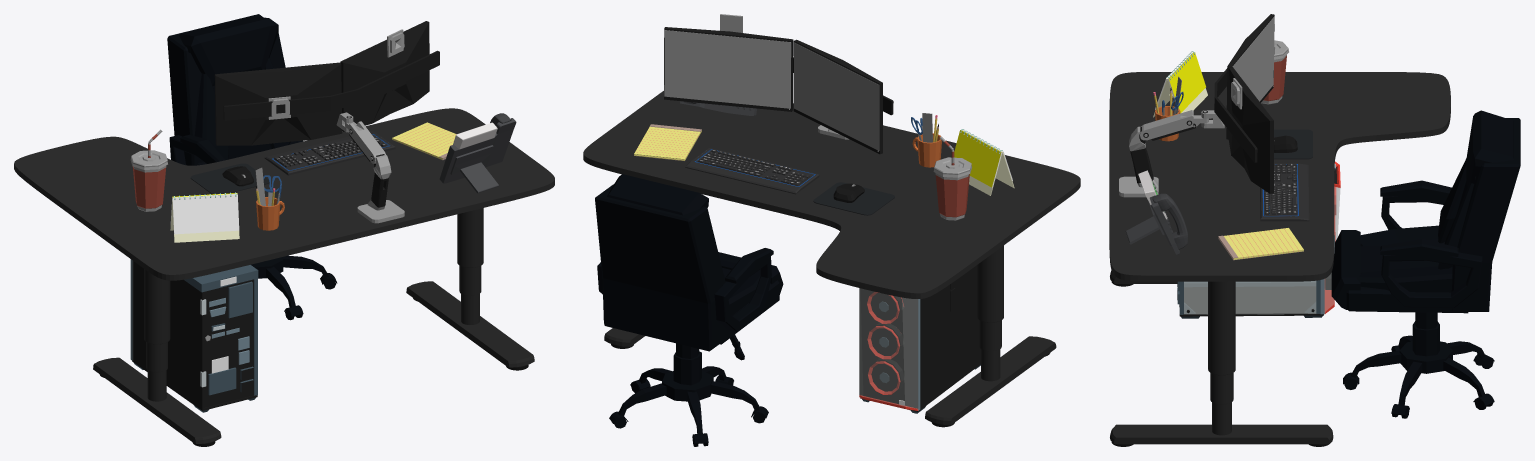
The model's file is Office.glb.
The picture shows the model from 3 angles, left to right: view 1: azimuth 30°, elevation 25°; view 2: azimuth 150°, elevation 25°; view 3: azimuth 270°, elevation 25°; orthographic projection. The views are drawn at different scales.
Visible parts, largest first — view 1: Desk, ExecutiveChair1, Dual Monitors on sit-stand arm|group1691283673|Dupli|23, group1851977708, Dual Monitors on sit-stand arm|group860618825|Dupli|22, group1179872976, Office Phone.001, Dual Monitors on sit-stand arm|group2128326706|Dupli|16, Calendar-8GqQAqxi3qk, Keyboard1, Soda.001|Soda|Dupli|, Notebook|Notebook_Cube.041|Dupli| (+7 smaller); view 2: Desk, ExecutiveChair1, Dual Monitors on sit-stand arm|group860618825|Dupli|22, Dual Monitors on sit-stand arm|group1691283673|Dupli|23, group549538436, group1851977708, group997898928, Keyboard1, Calendar-8GqQAqxi3qk, Soda.001|Soda|Dupli|, Notebook|Notebook_Cube.041|Dupli|, Mousepad.001 (+5 smaller); view 3: Desk, ExecutiveChair1, group1867655503, Dual Monitors on sit-stand arm|group860618825|Dupli|22, group358629412, Dual Monitors on sit-stand arm|group1691283673|Dupli|23, Keyboard1, Office Phone.001, Notebook|Notebook_Cube.041|Dupli|, Calendar-8GqQAqxi3qk, Dual Monitors on sit-stand arm|group2128326706|Dupli|16, Dual Monitors on sit-stand arm|group329542522|Dupli| (+6 smaller).
Part boxes in pixels (bbox=[...]): Desk: bbox=[14, 108, 554, 446]; ExecutiveChair1: bbox=[167, 14, 337, 320]; Dual Monitors on sit-stand arm|group1691283673|Dupli|23: bbox=[214, 62, 342, 145]; group1851977708: bbox=[133, 261, 203, 409]; Dual Monitors on sit-stand arm|group860618825|Dupli|22: bbox=[340, 21, 429, 131]; group1179872976: bbox=[203, 279, 253, 407]; Office Phone.001: bbox=[439, 113, 516, 193]; Dual Monitors on sit-stand arm|group2128326706|Dupli|16: bbox=[223, 50, 439, 120]; Calendar-8GqQAqxi3qk: bbox=[170, 192, 239, 242]; Keyboard1: bbox=[264, 131, 395, 175]; Soda.001|Soda|Dupli|: bbox=[130, 129, 167, 211]; Notebook|Notebook_Cube.041|Dupli|: bbox=[392, 122, 456, 160]; Desk: bbox=[583, 91, 1080, 427]; ExecutiveChair1: bbox=[595, 174, 783, 446]; Dual Monitors on sit-stand arm|group860618825|Dupli|22: bbox=[664, 27, 793, 111]; Dual Monitors on sit-stand arm|group1691283673|Dupli|23: bbox=[793, 39, 882, 154]; group549538436: bbox=[859, 288, 917, 409]; group1851977708: bbox=[920, 265, 980, 408]; group997898928: bbox=[859, 288, 920, 410]; Keyboard1: bbox=[685, 148, 819, 194]; Calendar-8GqQAqxi3qk: bbox=[954, 129, 1014, 195]; Soda.001|Soda|Dupli|: bbox=[933, 136, 971, 220]; Notebook|Notebook_Cube.041|Dupli|: bbox=[634, 124, 701, 160]; Mousepad.001: bbox=[813, 182, 894, 215]; Desk: bbox=[1109, 72, 1450, 446]; ExecutiveChair1: bbox=[1331, 110, 1520, 418]; group1867655503: bbox=[1184, 281, 1316, 314]; Dual Monitors on sit-stand arm|group860618825|Dupli|22: bbox=[1228, 67, 1273, 193]; group358629412: bbox=[1179, 286, 1323, 316]; Dual Monitors on sit-stand arm|group1691283673|Dupli|23: bbox=[1226, 14, 1274, 139]; Keyboard1: bbox=[1260, 163, 1309, 221]; Office Phone.001: bbox=[1125, 170, 1187, 254]; Notebook|Notebook_Cube.041|Dupli|: bbox=[1218, 228, 1303, 260]; Calendar-8GqQAqxi3qk: bbox=[1153, 51, 1207, 117]; Dual Monitors on sit-stand arm|group2128326706|Dupli|16: bbox=[1214, 68, 1257, 162]; Dual Monitors on sit-stand arm|group329542522|Dupli|: bbox=[1119, 147, 1158, 197].
Size of the model in its own units: 100 by 75.16 by 85.26.
Materials: 42 (4 with a texture image).
